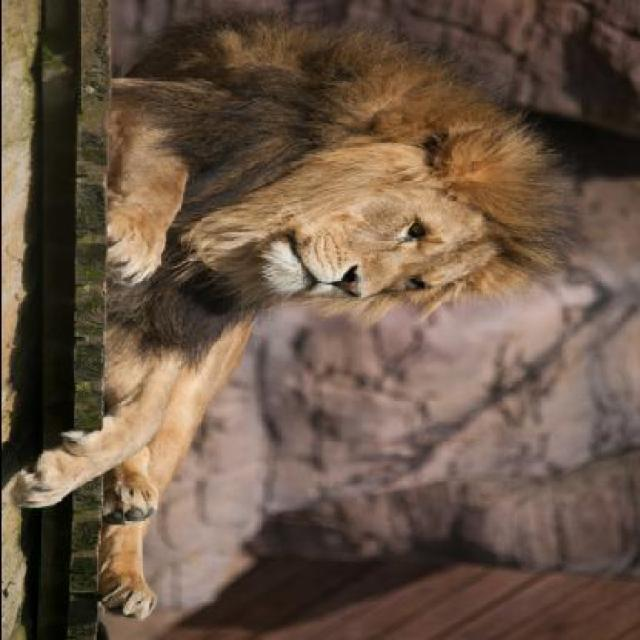Lion: (9, 6, 586, 625)
